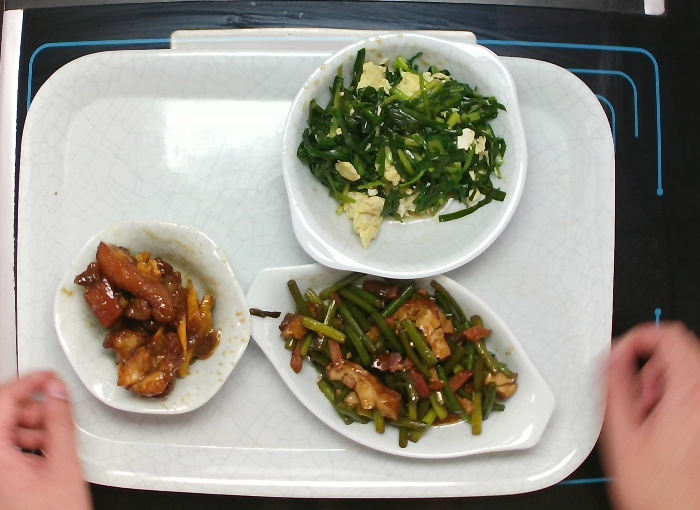JYsf-Shuang_Er_Wan: (276, 31, 529, 282)
JYsf-Yu_Pan: (245, 259, 559, 461)
WCQzf-Hua_Duo_Wan: (50, 213, 253, 424)
